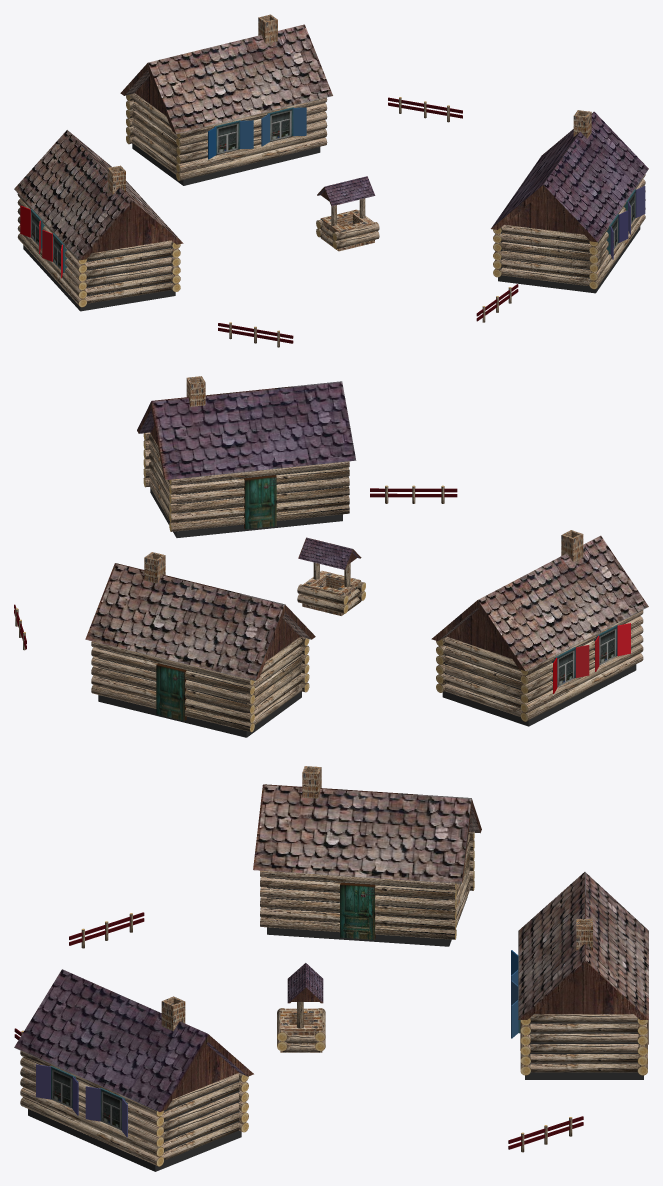
The model's file is хутор.fbx.
3 renders of one model, top to bottom at view 1: azimuth 30°, elevation 25°; view 2: azimuth 150°, elevation 25°; view 3: azimuth 270°, elevation 25°, orthographic. The views are drawn at different scales.
Parts seen in each view (by area): view 1: Cube.001, Cube.018, Cube.028, Cube.029, Cube, Cube.019, Цилиндр, Цилиндр.001, Cube.031, Cube.030, Цилиндр.025, Цилиндр.028 (+19 smaller); view 2: Cube.018, Cube.001, Cube.028, Cube, Cube.019, Cube.029, Cube.016, Cube.003, Цилиндр.038, Цилиндр.040, Цилиндр.037, Цилиндр.039 (+23 smaller); view 3: Cube.028, Cube.018, Cube.001, Cube.019, Cube.029, Cube, Cube.026, Цилиндр.062, Цилиндр.064, Цилиндр.061, Цилиндр.060, Цилиндр.063 (+25 smaller).
Part boxes in pixels (left/top/right/bottom): Cube.001: left=120, top=24, right=332, bottom=133; Cube.018: left=491, top=111, right=648, bottom=242; Cube.028: left=14, top=130, right=183, bottom=260; Cube.029: left=23, top=245, right=175, bottom=311; Cube: left=132, top=93, right=320, bottom=185; Cube.019: left=498, top=226, right=640, bottom=293; Цилиндр: left=176, top=137, right=327, bottom=180; Цилиндр.001: left=176, top=128, right=327, bottom=172; Cube.031: left=317, top=176, right=375, bottom=206; Cube.030: left=320, top=209, right=374, bottom=251; Цилиндр.025: left=501, top=259, right=591, bottom=277; Цилиндр.028: left=501, top=233, right=591, bottom=251; Cube.018: left=137, top=381, right=356, bottom=480; Cube.001: left=85, top=563, right=315, bottom=680; Cube.028: left=431, top=535, right=648, bottom=671; Cube: left=98, top=636, right=301, bottom=737; Cube.019: left=150, top=468, right=342, bottom=537; Cube.029: left=442, top=636, right=636, bottom=726; Cube.016: left=244, top=475, right=276, bottom=529; Cube.003: left=156, top=663, right=186, bottom=721; Цилиндр.038: left=169, top=486, right=349, bottom=513; Цилиндр.040: left=169, top=467, right=349, bottom=494; Цилиндр.037: left=169, top=495, right=349, bottom=522; Цилиндр.039: left=169, top=476, right=349, bottom=503; Cube.028: left=253, top=784, right=481, bottom=883; Cube.018: left=14, top=969, right=253, bottom=1111; Cube.001: left=518, top=872, right=648, bottom=1019; Cube.019: left=28, top=1070, right=241, bottom=1171; Cube.029: left=267, top=877, right=467, bottom=946; Cube: left=525, top=1022, right=643, bottom=1079; Cube.026: left=340, top=882, right=375, bottom=939; Цилиндр.062: left=260, top=897, right=456, bottom=919; Цилиндр.064: left=260, top=877, right=456, bottom=899; Цилиндр.061: left=260, top=907, right=456, bottom=929; Цилиндр.060: left=260, top=917, right=456, bottom=939; Цилиндр.063: left=260, top=887, right=456, bottom=909.
Size of the model in its own units: 4905 by 1107 by 4430.
40 materials, 19 textured.
